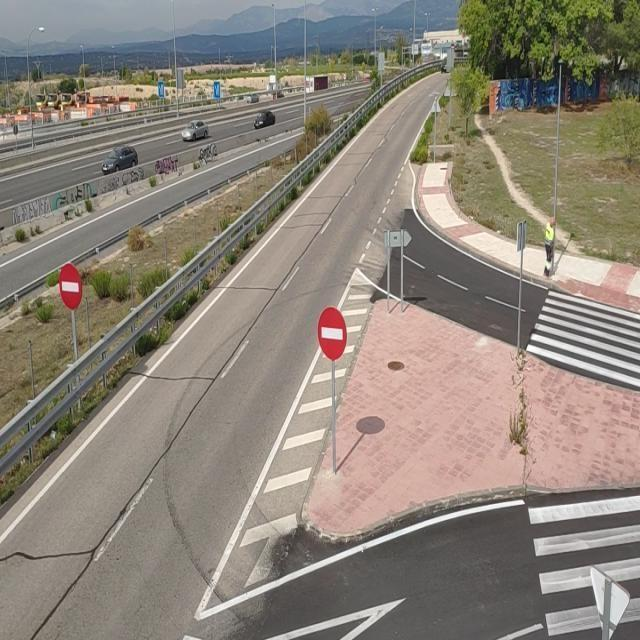Car: (101, 145, 139, 176), (181, 119, 209, 141), (253, 111, 276, 129), (246, 94, 260, 104)
